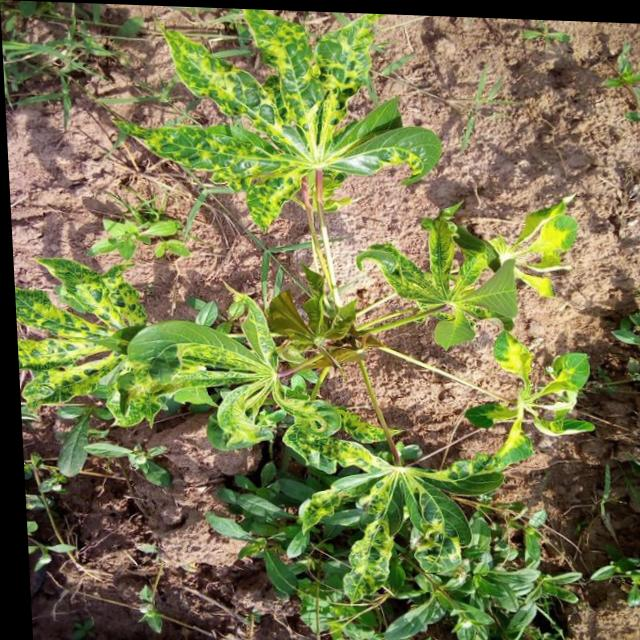Mosaico: (232, 439, 544, 614), (152, 21, 446, 180), (351, 207, 521, 371), (20, 240, 151, 443), (125, 291, 322, 425), (475, 323, 616, 474)
